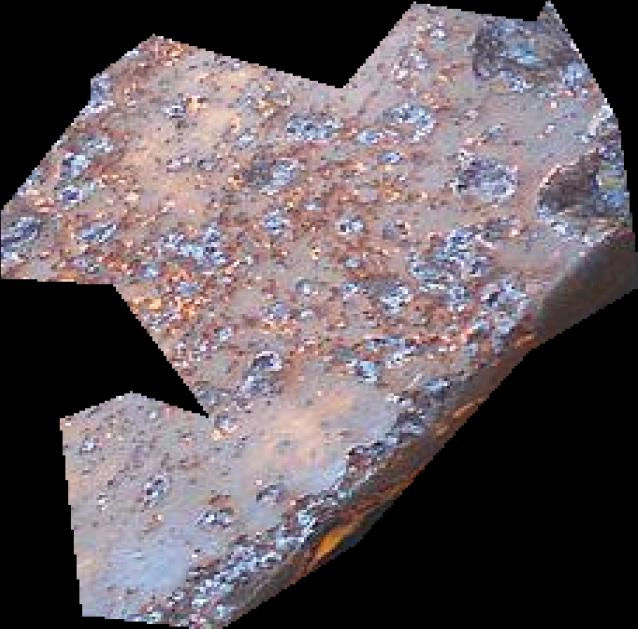Pitting Corrosion: (1, 0, 638, 629)
